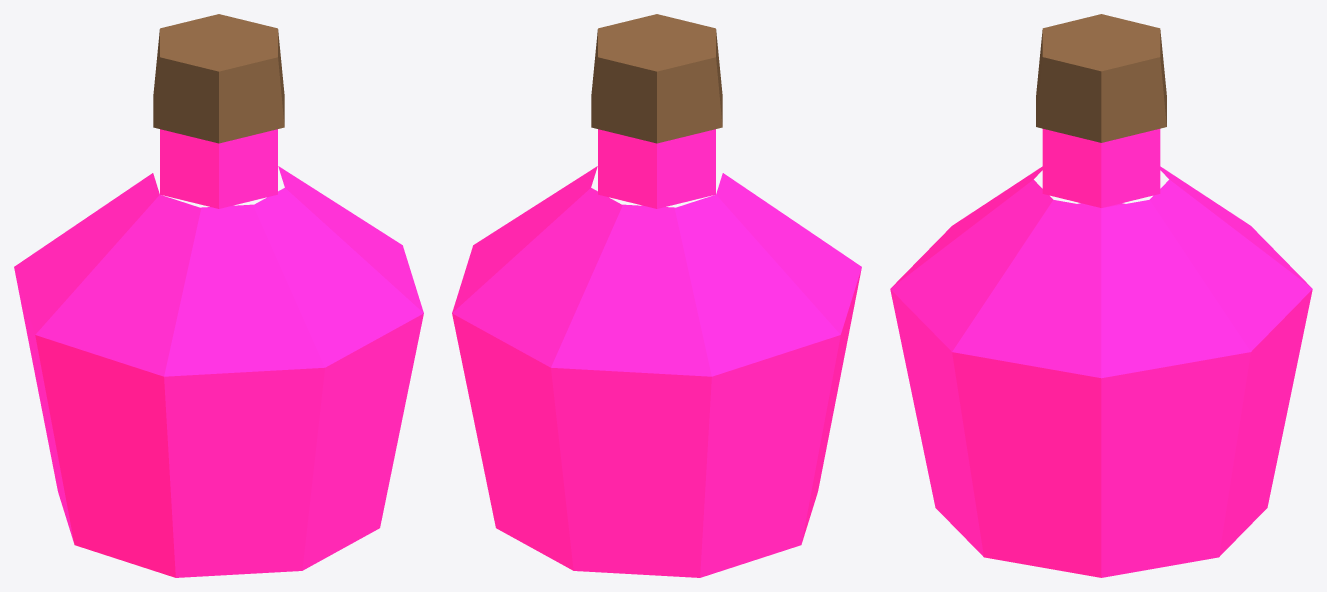
File: greater_health_potion.glb
3 renders of one model, left to right at view 1: azimuth 30°, elevation 25°; view 2: azimuth 150°, elevation 25°; view 3: azimuth 270°, elevation 25°, orthographic.
Parts seen in each view (by area): view 1: greater_health_potion; view 2: greater_health_potion; view 3: greater_health_potion.
Boxes of the visible parts, left/top/right/bottom form: greater_health_potion: left=14, top=14, right=423, bottom=577; greater_health_potion: left=452, top=14, right=861, bottom=577; greater_health_potion: left=890, top=14, right=1312, bottom=577.
Size of the model in its own units: 0.42 by 0.51 by 0.42.
